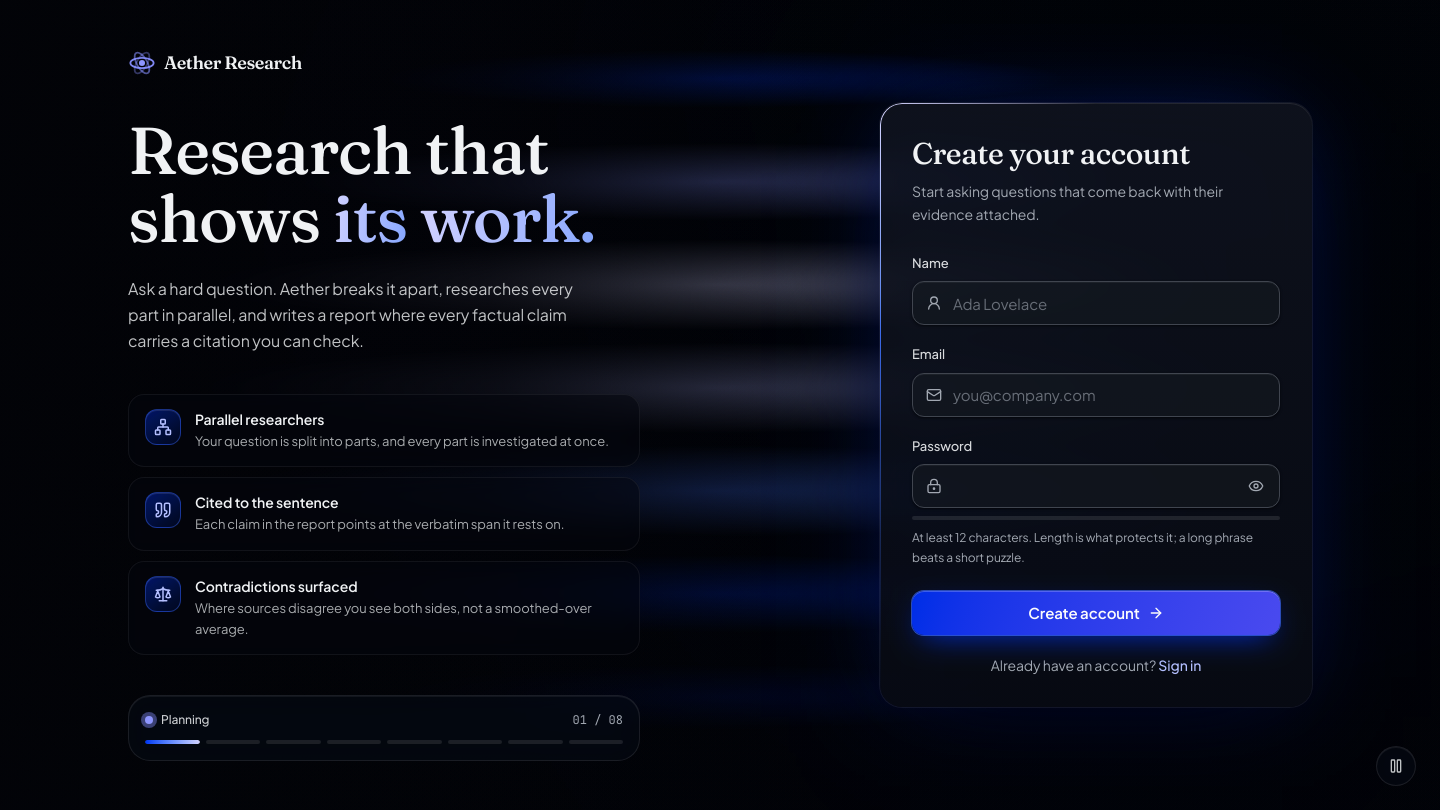
RegisterPage › renders the server's password policy beside the password field
This screenshot has width=1440, height=810.
Type "ada@example.com" into the field labelled "Email" at {"x": 1096, "y": 395}, box [912,373,1280,417]
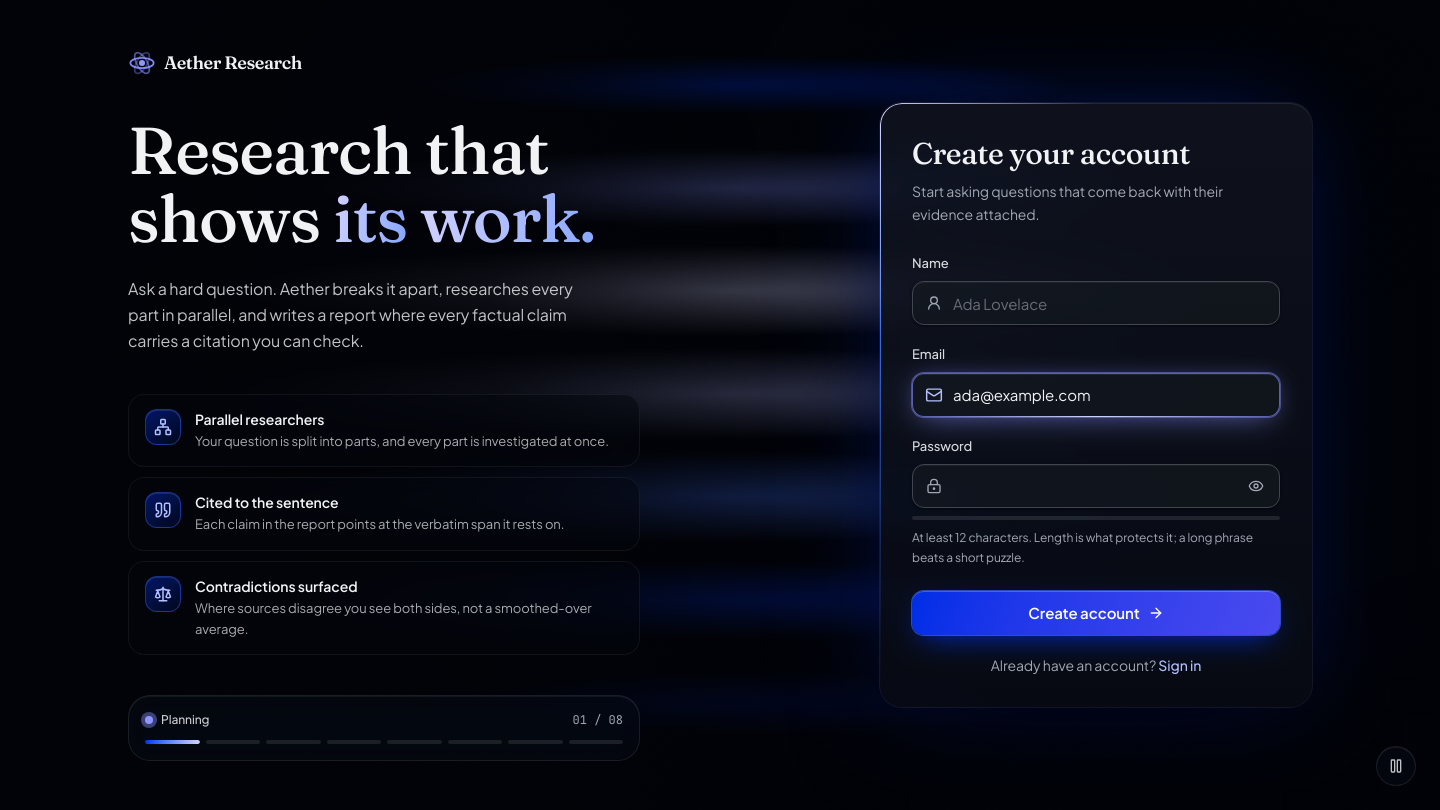
Type "short" into the password field labelled "Password" at {"x": 1096, "y": 486}, box [912,464,1280,508]
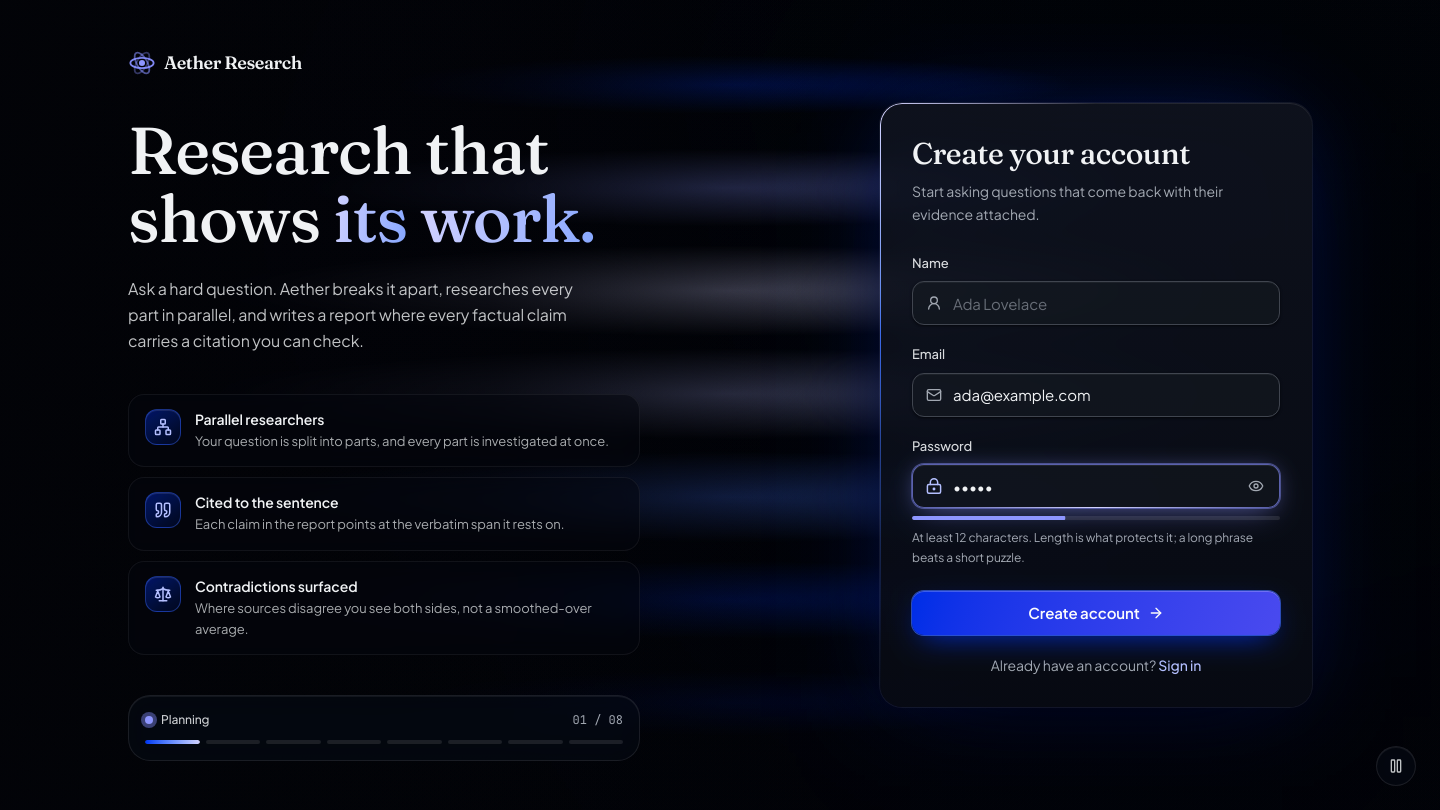
Click the button with test id "register-submit" at {"x": 1096, "y": 613}, box [912,591,1280,635]
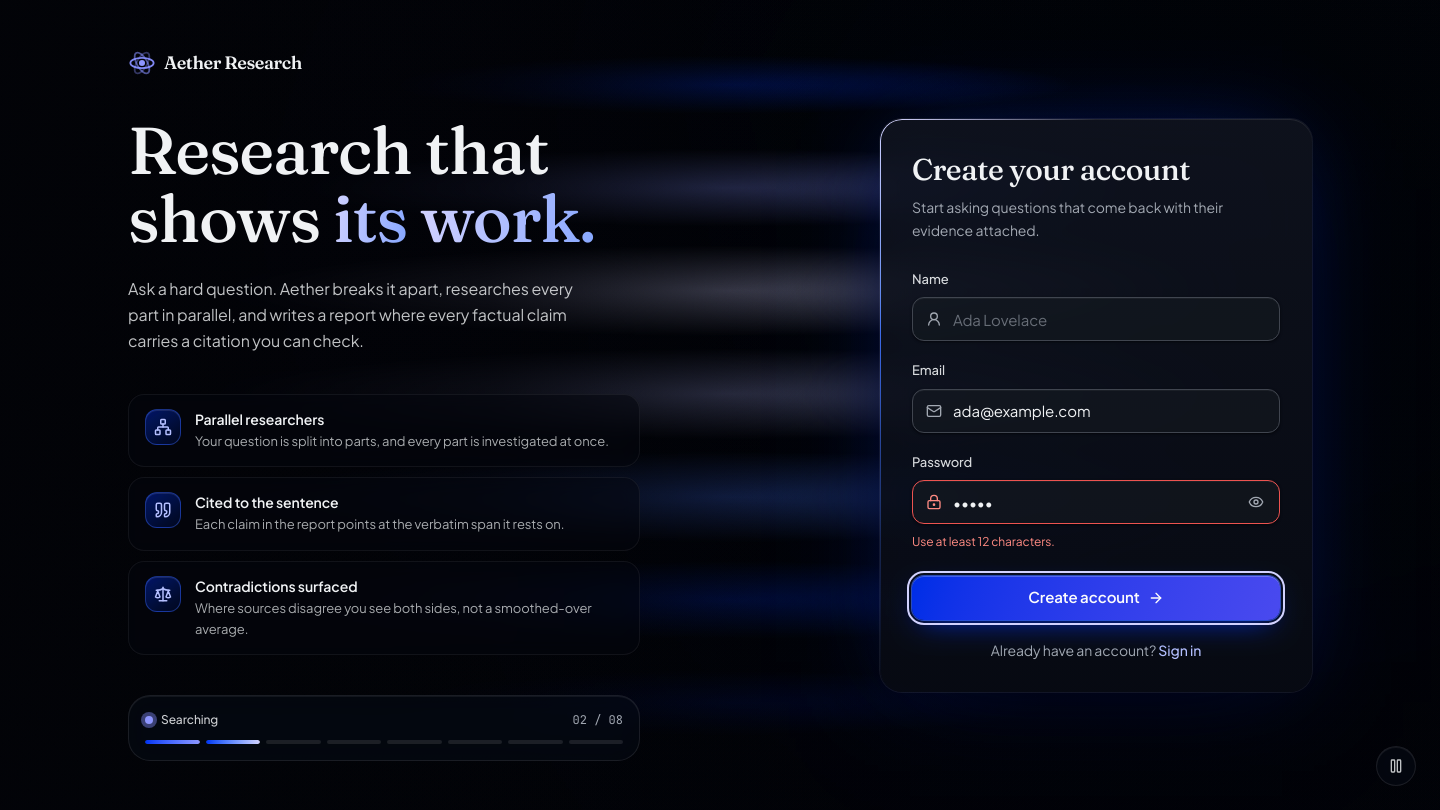
Now the text "Use at least 12 characters." is shown, box [912,534,1055,549]
